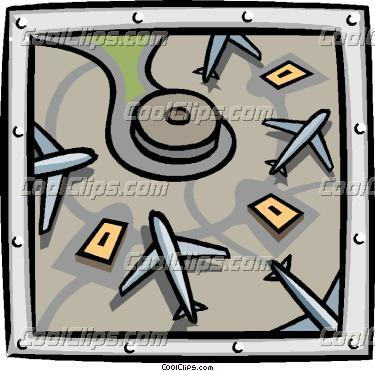aeroplane: (121, 204, 231, 324), (28, 118, 93, 231), (256, 249, 339, 336), (255, 96, 336, 178)
